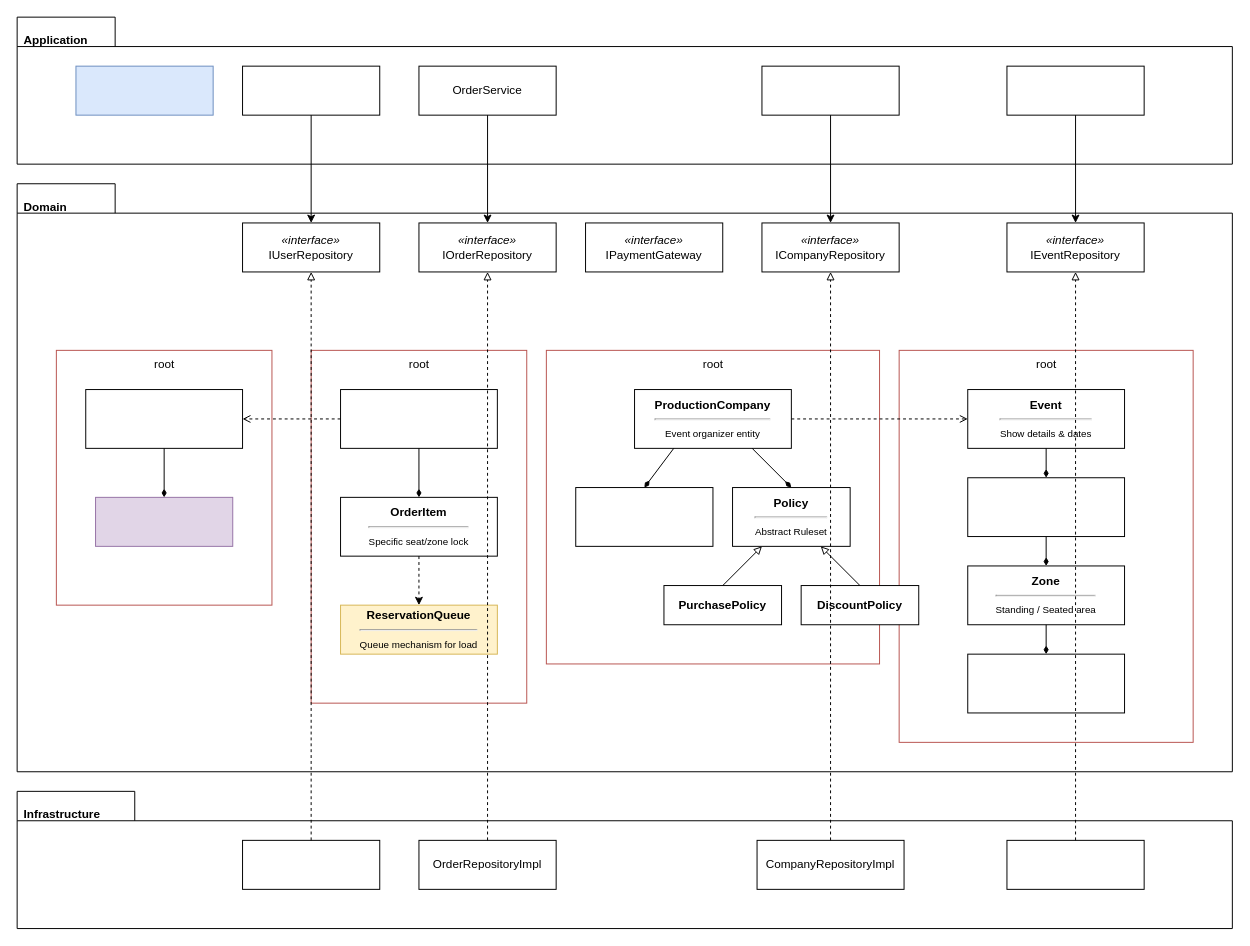
Image size: 1250x946. Some labels were removed from this diagram. The box of each missing label's shape, as (x1, y1, x2, y2) in pixels:
ActiveOrder Holds unfulfilled tickets: (340, 389, 497, 448)
AuthService (Handles Tokens): (75, 65, 213, 115)
CompanyService: (761, 65, 899, 115)
EventRepositoryImpl: (1006, 839, 1144, 889)
EventService: (1006, 65, 1144, 115)
RoleAssignment Founder/Owner/Manager: (575, 487, 713, 546)
Seat Specific marked chair: (967, 653, 1125, 713)
SessionToken JWT / Auth mechanism: (95, 496, 233, 546)
UserRepositoryImpl: (242, 839, 380, 889)
UserService: (242, 65, 380, 115)
UserSession Manages visitor state: (85, 389, 243, 448)
VenueMap Logical seating layout: (967, 477, 1125, 537)
